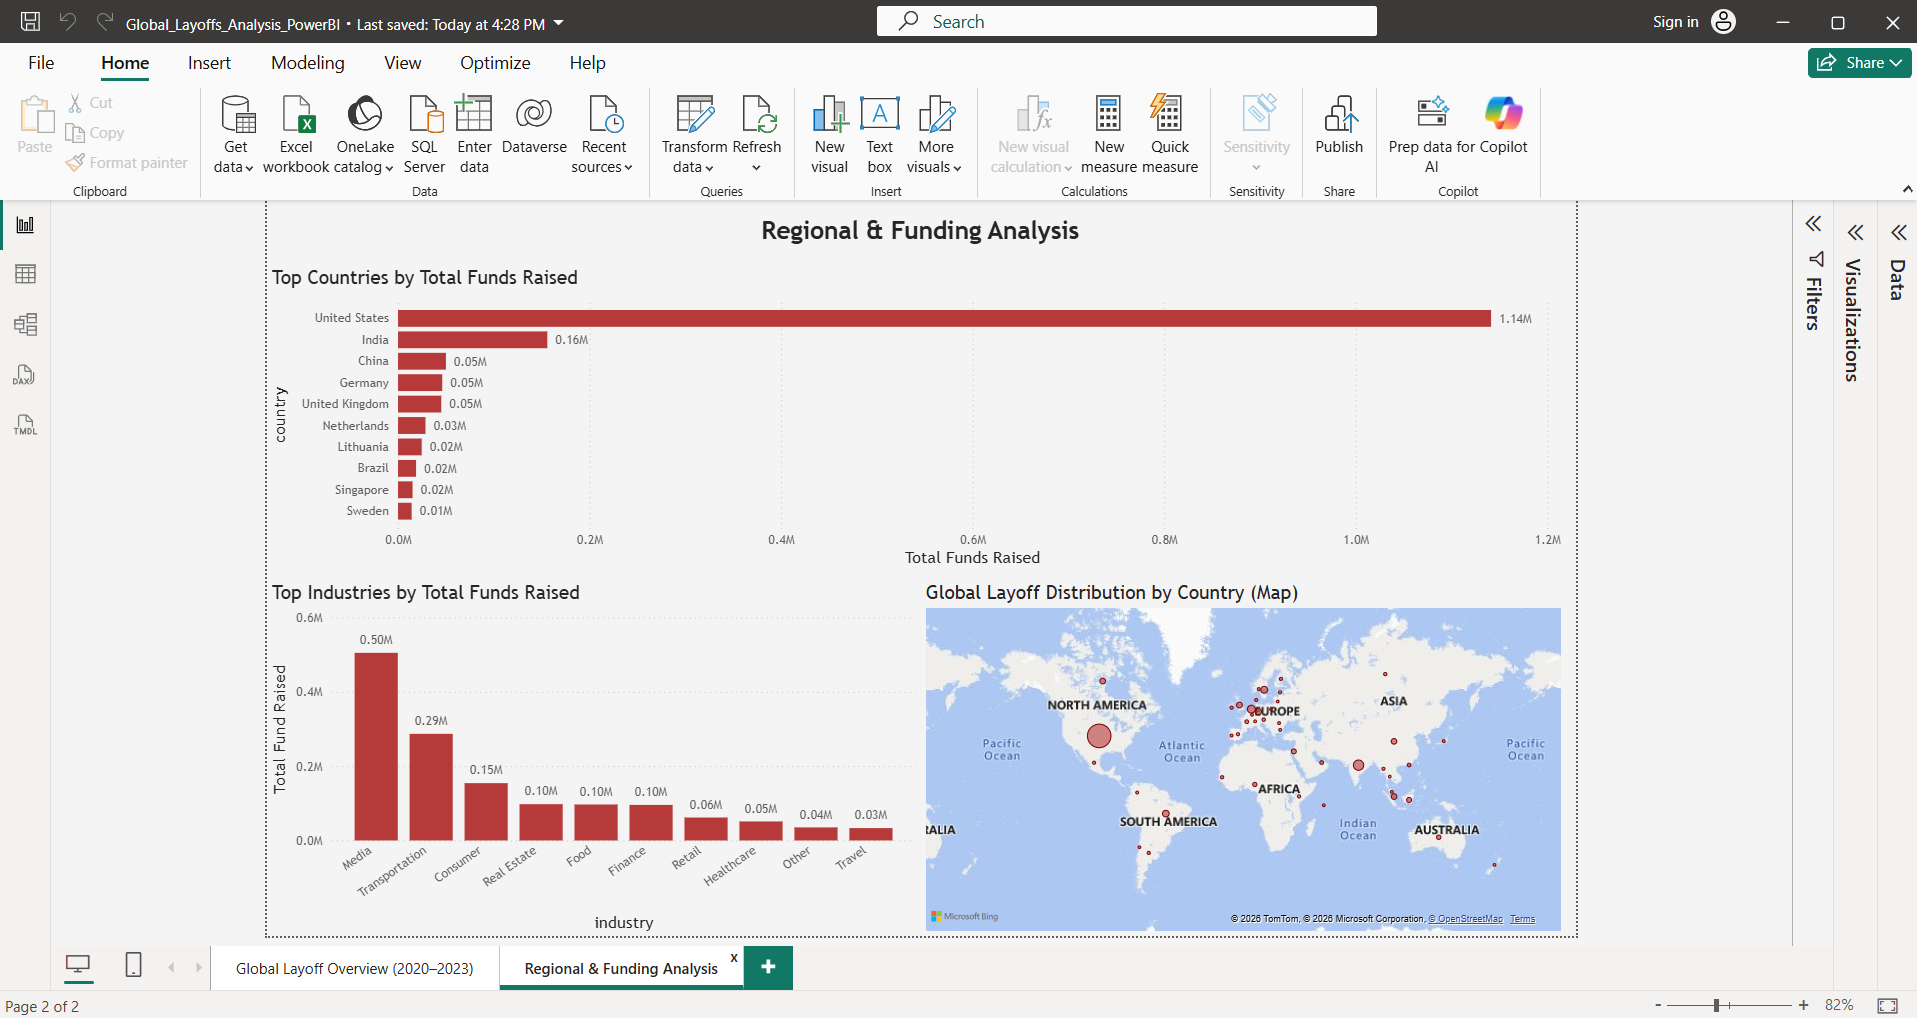

What the dashboard file says about the page in this screenshot:
{"tool":"powerbi","page":{"name":"Regional & Funding Analysis","canvas":[1280,720],"ordinal":1},"visuals":[{"type":"textbox","box":[4.1,11,1270.7,53.5],"z":0},{"type":"barChart","title":"Top Countries by Total Funds Raised","fields":{"Category":["world_layoffs_cleaned.country"],"Y":["Sum(world_layoffs_cleaned.funds_raised_millions)"]},"box":[0,64.5,1270.7,299.1],"z":1000},{"type":"columnChart","title":"Top Industries by Total Funds Raised","fields":{"Category":["world_layoffs_cleaned.industry"],"Y":["Sum(world_layoffs_cleaned.funds_raised_millions)"]},"box":[0,373.2,639.5,347.2],"z":2000},{"type":"map","title":"Global Layoff Distribution by Country (Map)","fields":{"Category":["world_layoffs_cleaned.country"],"Size":["world_layoffs_cleaned.Total Layoffs"]},"box":[639.5,373.2,631.2,347.2],"z":3000}]}

Visuals, with their boxes on the page's 1280x720 design canvas (x1, y1, x2, y2). These are canvas units, not pixel positions in the 1917x1018 screenshot, which may show the page scaled, cropped or inside an application window:
textbox: box(4, 11, 1275, 64)
"Top Countries by Total Funds Raised" barChart: box(0, 64, 1271, 364)
"Top Industries by Total Funds Raised" columnChart: box(0, 373, 640, 720)
"Global Layoff Distribution by Country (Map)" map: box(640, 373, 1271, 720)
